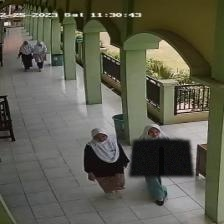Cadar_Niqab: (129, 120, 193, 176)
